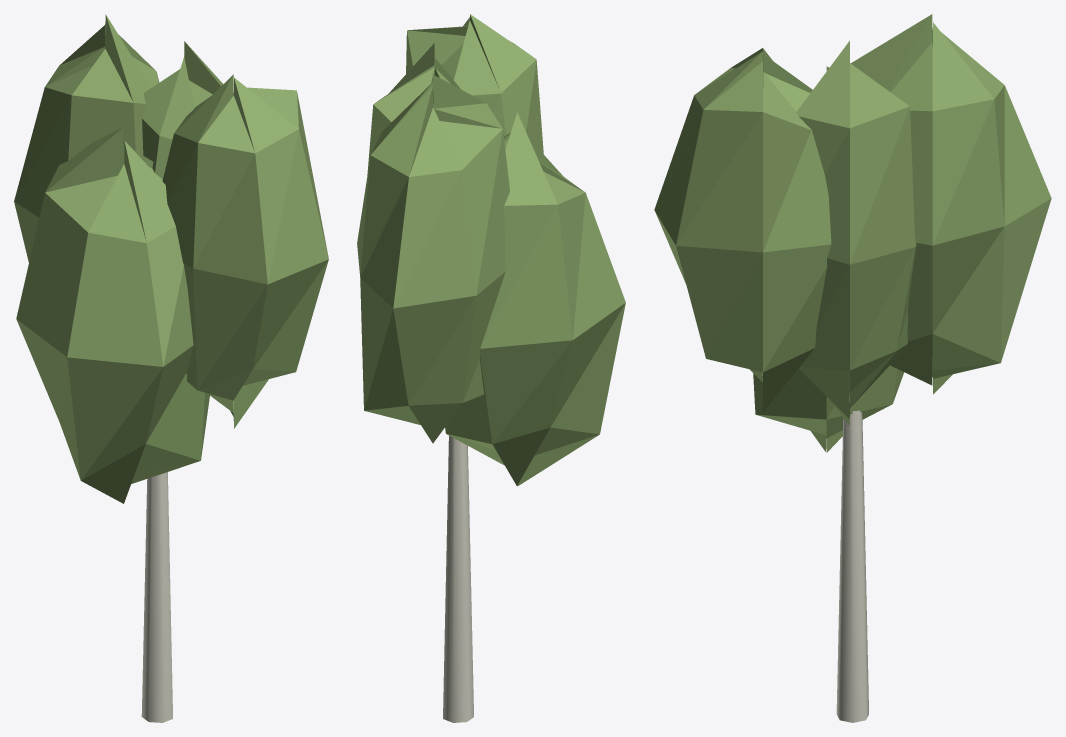
Rendered from birch_tree_variant_01_lod1.glb.
The picture shows the model from 3 angles, left to right: view 1: azimuth 30°, elevation 25°; view 2: azimuth 150°, elevation 25°; view 3: azimuth 270°, elevation 25°; orthographic projection. The views are drawn at different scales.
Parts seen in each view (by area): view 1: static_leaf_light, trunk; view 2: static_leaf_light, trunk; view 3: static_leaf_light, trunk.
Boxes of the visible parts, x1=… form: static_leaf_light: x1=14, y1=14, x2=328, y2=503; trunk: x1=141, y1=472, x2=172, y2=722; static_leaf_light: x1=357, y1=14, x2=625, y2=486; trunk: x1=443, y1=435, x2=473, y2=722; static_leaf_light: x1=654, y1=14, x2=1051, y2=452; trunk: x1=836, y1=410, x2=868, y2=722.
Size of the model in its own units: 3.23 by 9.19 by 4.76.
